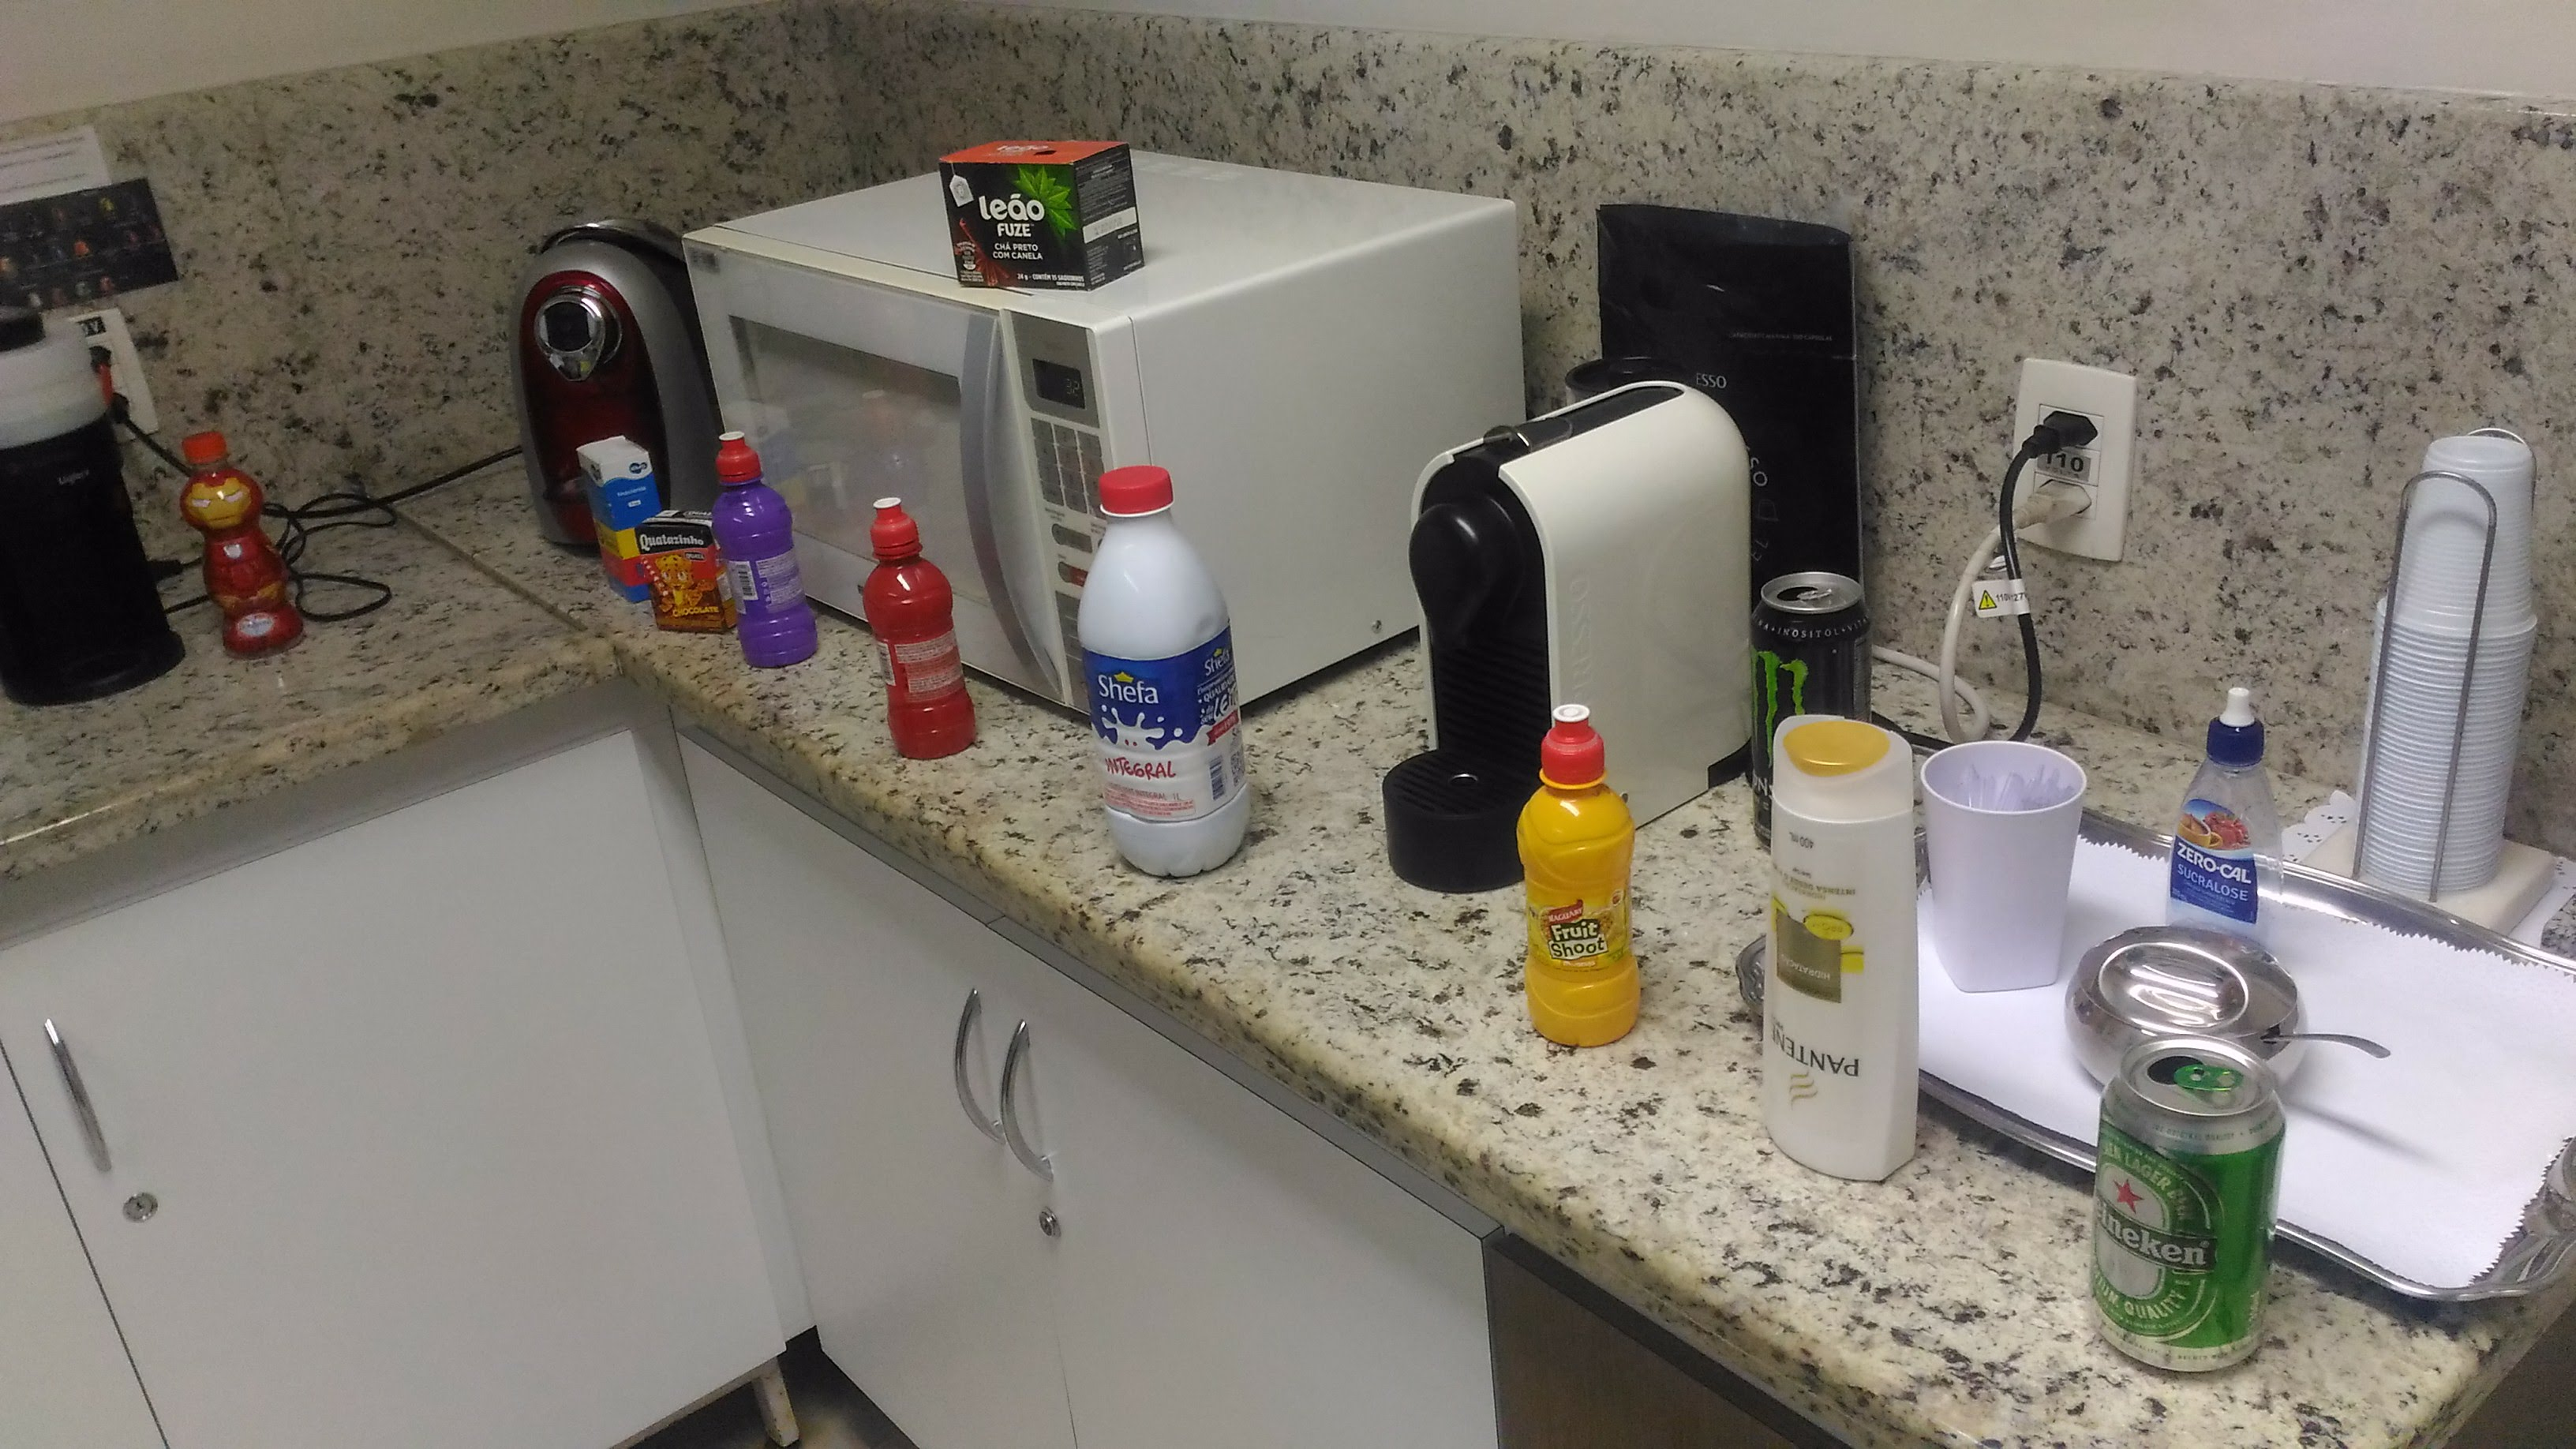chocolate_milk: (632, 506, 730, 634)
heineken: (2083, 1024, 2290, 1393)
iron_man: (170, 431, 316, 668)
medicine: (560, 427, 643, 608)
milk_bottle: (1064, 453, 1275, 885)
monster: (1752, 551, 1880, 736)
purple_juice: (715, 427, 835, 675)
red_juice: (850, 491, 993, 784)
shampoo: (1759, 709, 1940, 1197)
tea_box: (929, 137, 1155, 299)
yellow_juice: (1507, 702, 1654, 1058)
